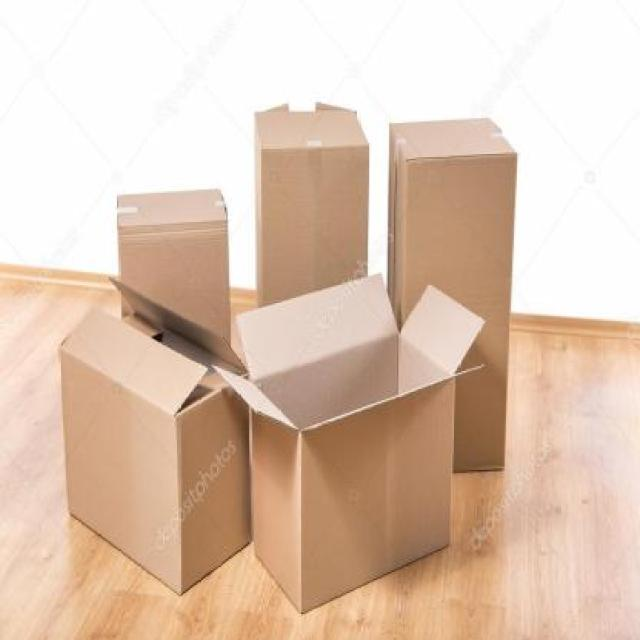box: (210, 247, 493, 618), (47, 273, 262, 608), (389, 74, 518, 500), (247, 91, 381, 327), (111, 180, 242, 353)
